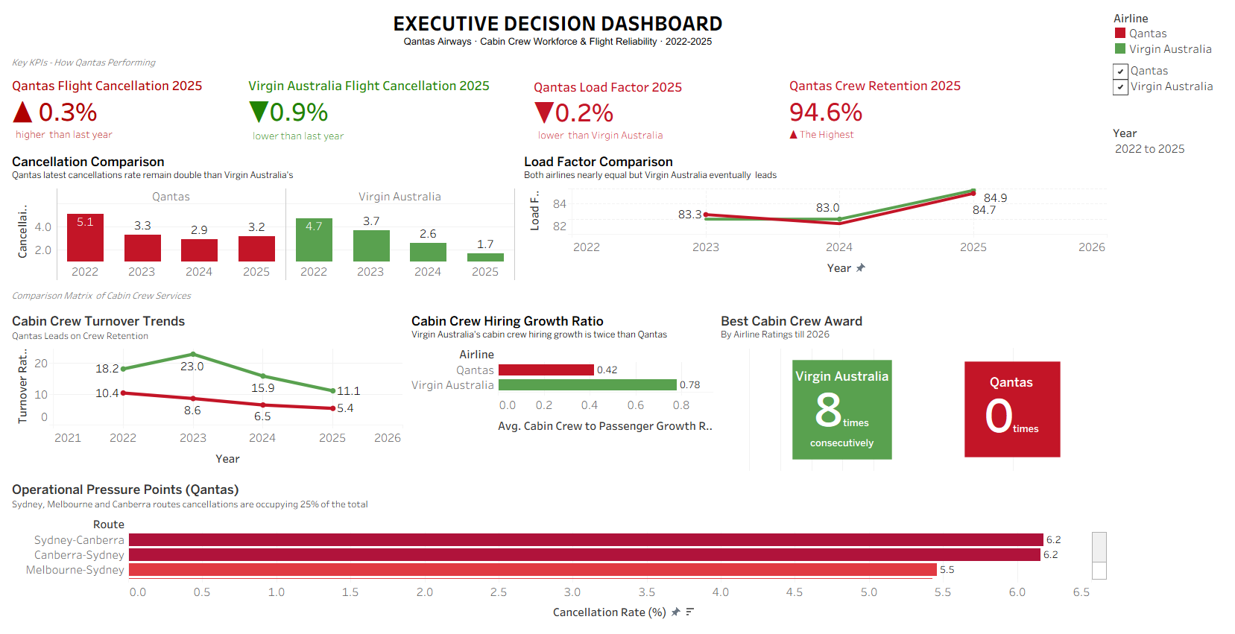

The dashboard page shown, as its layout file describes it:
{"tool":"tableau","page":{"name":"Dashboard 1","canvas":[1000,1000],"units":"permille","ordinal":0},"visuals":[{"type":"text","box":[4.8,9.4,893.8,69.8]},{"type":"legend","title":"Competitive Position","param":"[federated.1oxshi81ycus871h4tdr81hsb6xr].[none:Airline:nk]","box":[898.6,9.4,96.6,84.6]},{"type":"text","box":[4.8,79.2,893.8,36.7]},{"type":"filter","title":"Competitive Position","param":"[federated.1oxshi81ycus871h4tdr81hsb6xr].[none:Airline:nk]","box":[898.6,94,96.6,97.5]},{"type":"worksheet","title":"KPI- Qantas Cancellation","mark":"Automatic","box":[4.8,115.9,191.5,115.2]},{"type":"worksheet","title":"KPI- Vg Cancellation","mark":"Automatic","box":[196.3,115.9,230.7,115.2]},{"type":"worksheet","title":"KPI load Factor","mark":"Automatic","box":[427,115.9,207,115.2]},{"type":"worksheet","title":"KPI Crew Retention","mark":"Automatic","box":[634,115.9,264.6,115.2]},{"type":"filter","title":"Workforce Stability","param":"[federated.0uj0fy410ab4fn1a1m3ar1m9yes6].[none:Year:qk]","box":[898.6,191.5,96.6,85.8]},{"type":"worksheet","title":"Competitive Position","mark":"Bar","rows":["Avg_Cancellaion_%"],"cols":["Airline","Year"],"box":[4.8,231.2,414.5,216.3]},{"type":"worksheet","title":"OTP_LoadFactor","mark":"Line","rows":["Load_Factor_%"],"cols":["Year"],"box":[419.4,231.2,479.2,216.3]},{"type":"text","box":[4.8,447.4,893.8,35.8]},{"type":"worksheet","title":"Workforce Stability","mark":"Automatic","rows":["Turnover_Rate_%"],"cols":["Year"],"box":[4.8,483.3,323.2,265.5]},{"type":"worksheet","title":"Key Tension","mark":"Bar","rows":["Airline"],"cols":["Growth_Ratio"],"box":[328,483.3,250.9,265.5]},{"type":"worksheet","title":"Service Recognition (Virgin)","mark":"Shape","cols":["Airline","Awards"],"box":[578.9,483.3,162.9,265.5]},{"type":"worksheet","title":"Service Recognition (Qantas)","mark":"Shape","cols":["Airline","Awards"],"box":[741.8,483.3,156.8,265.5]},{"type":"worksheet","title":"Operational Pressure Points","mark":"Automatic","rows":["Route"],"cols":["Cancellation Rate (%)"],"box":[4.8,748.8,893.8,241.8]}]}

Visuals, with their boxes on the dashboard's canvas, which has no fixed pixel size, in thousandths of its width and height (x1, y1, x2, y2). These are canvas units, not pixel positions in the 1235x634 screenshot, which may show the page scaled, cropped or inside an application window:
text: 5/9/899/79
"Competitive Position" legend: 899/9/995/94
text: 5/79/899/116
"Competitive Position" filter: 899/94/995/192
"KPI- Qantas Cancellation" worksheet: 5/116/196/231
"KPI- Vg Cancellation" worksheet: 196/116/427/231
"KPI load Factor" worksheet: 427/116/634/231
"KPI Crew Retention" worksheet: 634/116/899/231
"Workforce Stability" filter: 899/192/995/277
"Competitive Position" worksheet (Bar marks): 5/231/419/448
"OTP_LoadFactor" worksheet (Line marks): 419/231/899/448
text: 5/447/899/483
"Workforce Stability" worksheet: 5/483/328/749
"Key Tension" worksheet (Bar marks): 328/483/579/749
"Service Recognition (Virgin)" worksheet (Shape marks): 579/483/742/749
"Service Recognition (Qantas)" worksheet (Shape marks): 742/483/899/749
"Operational Pressure Points" worksheet: 5/749/899/991
